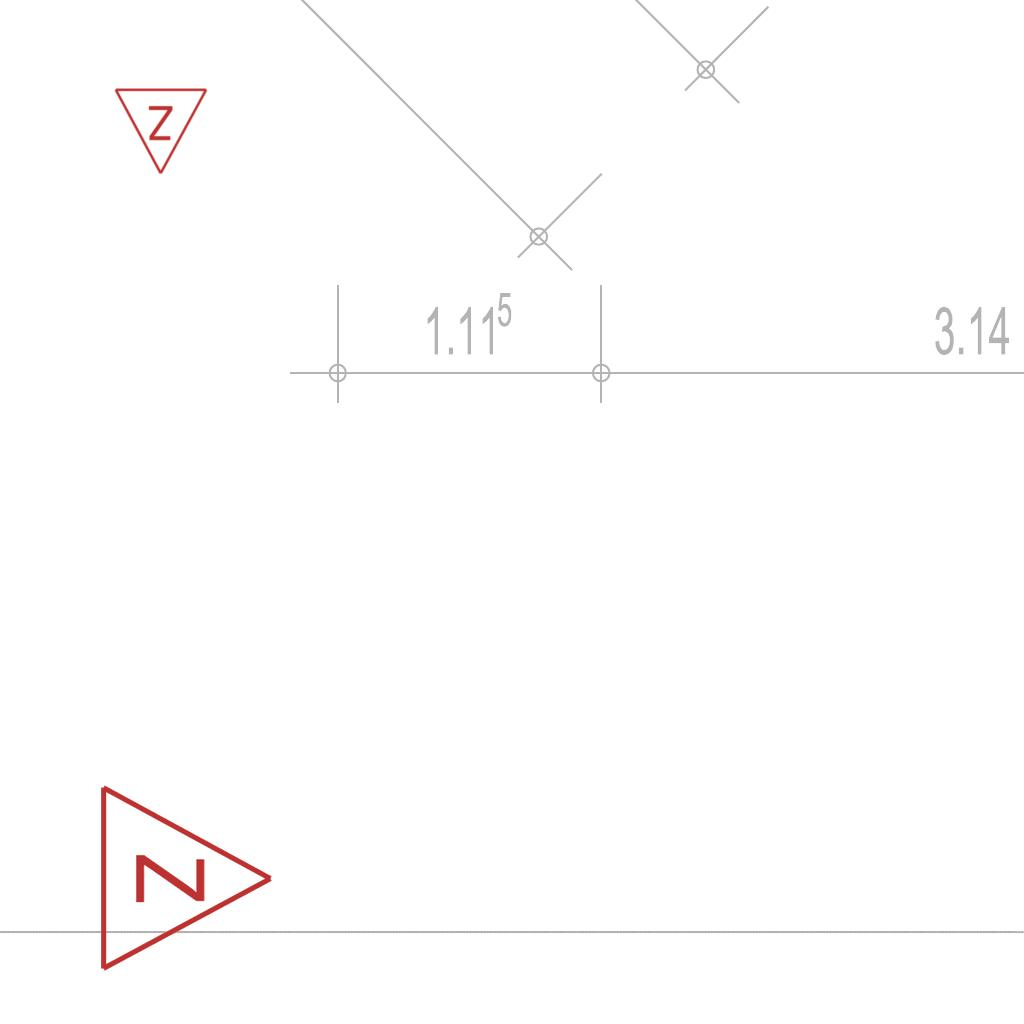Zimmersignalleuchte: (86, 778, 286, 974), (113, 81, 211, 181)
